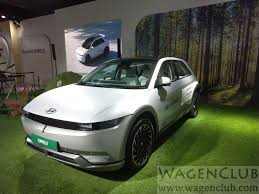Honda Ioniq: (17, 55, 202, 184)
